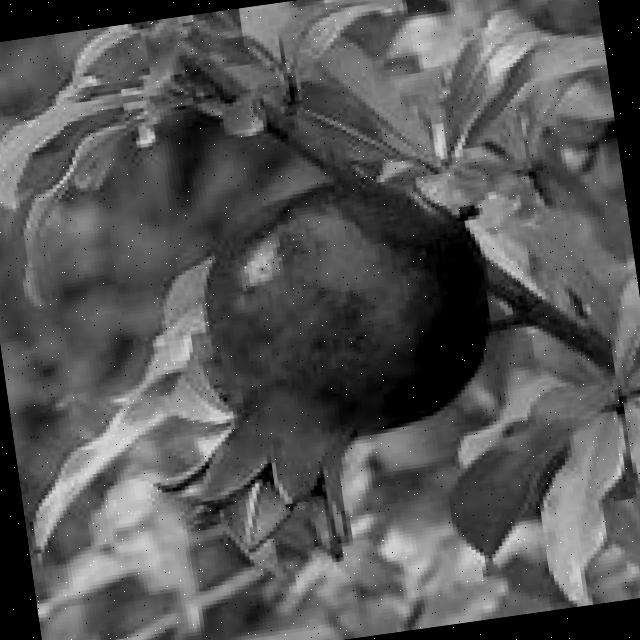Pomegranate: (111, 157, 522, 584)
